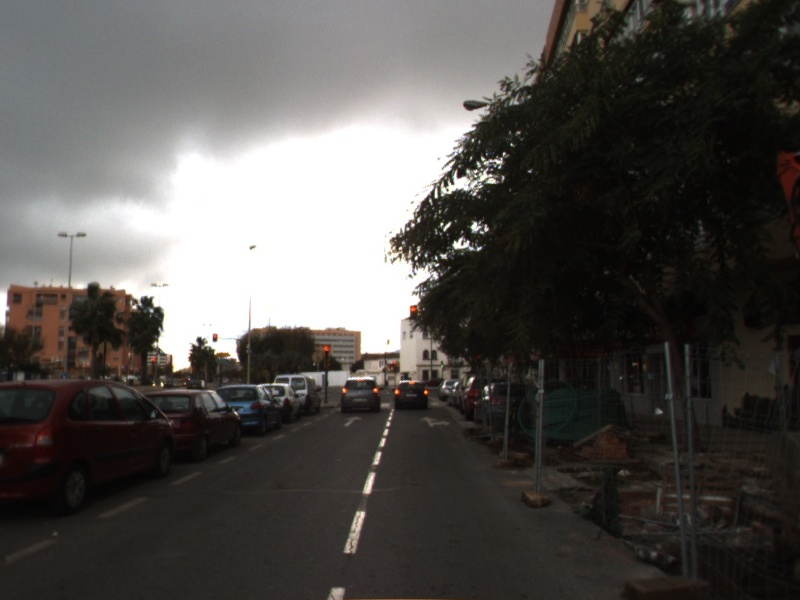STRAIGHT: (342, 414, 363, 427)
STRAIGHT_RIGHT: (418, 415, 453, 428)
